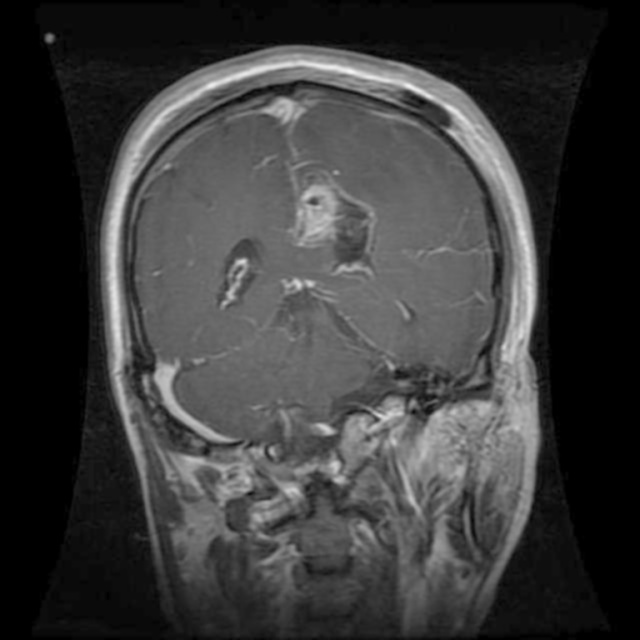pituitary tumor: (291, 179, 355, 249)
